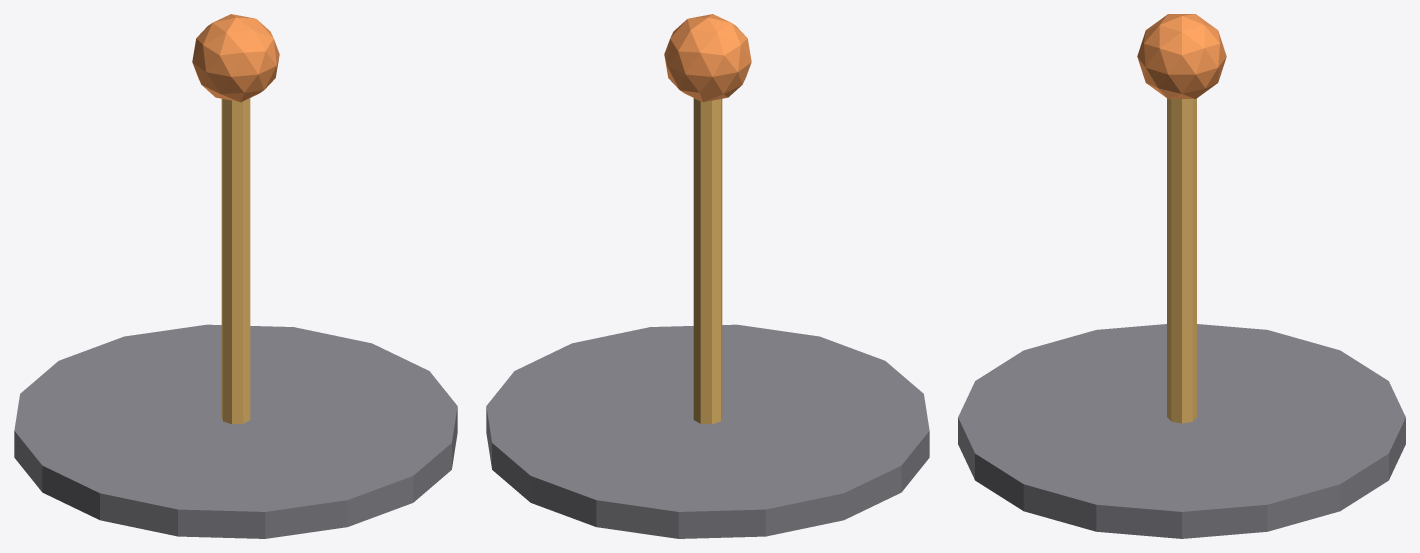
Rendered from extraction_beacon.glb.
3 renders of one model, left to right at view 1: azimuth 30°, elevation 25°; view 2: azimuth 150°, elevation 25°; view 3: azimuth 270°, elevation 25°, orthographic.
Visible parts, largest first — view 1: Base, Pole, Light; view 2: Base, Pole, Light; view 3: Base, Pole, Light.
Boxes of the visible parts, x1,y1,x2,y2 form: Base: (14, 324, 457, 538); Pole: (221, 98, 250, 424); Light: (192, 14, 279, 102); Base: (486, 324, 929, 538); Pole: (693, 98, 722, 424); Light: (664, 14, 751, 102); Base: (958, 324, 1405, 538); Pole: (1167, 98, 1196, 423); Light: (1137, 14, 1226, 98).
Bounding box in the file's own units: 1.8 × 1.9 × 1.8.
